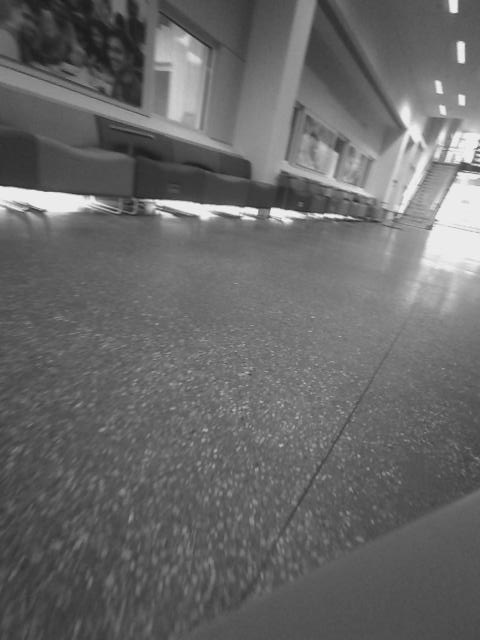ball: (288, 286, 355, 347)
